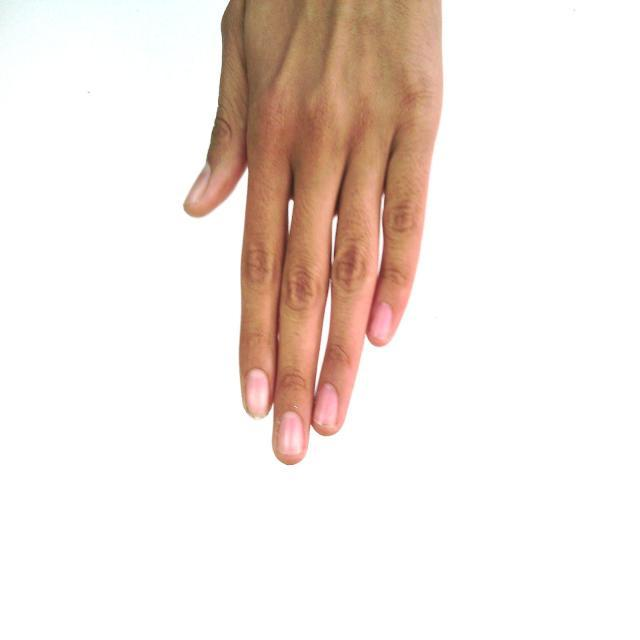Fingernail: (277, 409, 304, 455), (245, 368, 269, 418), (185, 161, 211, 204), (314, 384, 339, 427), (369, 302, 392, 341)
